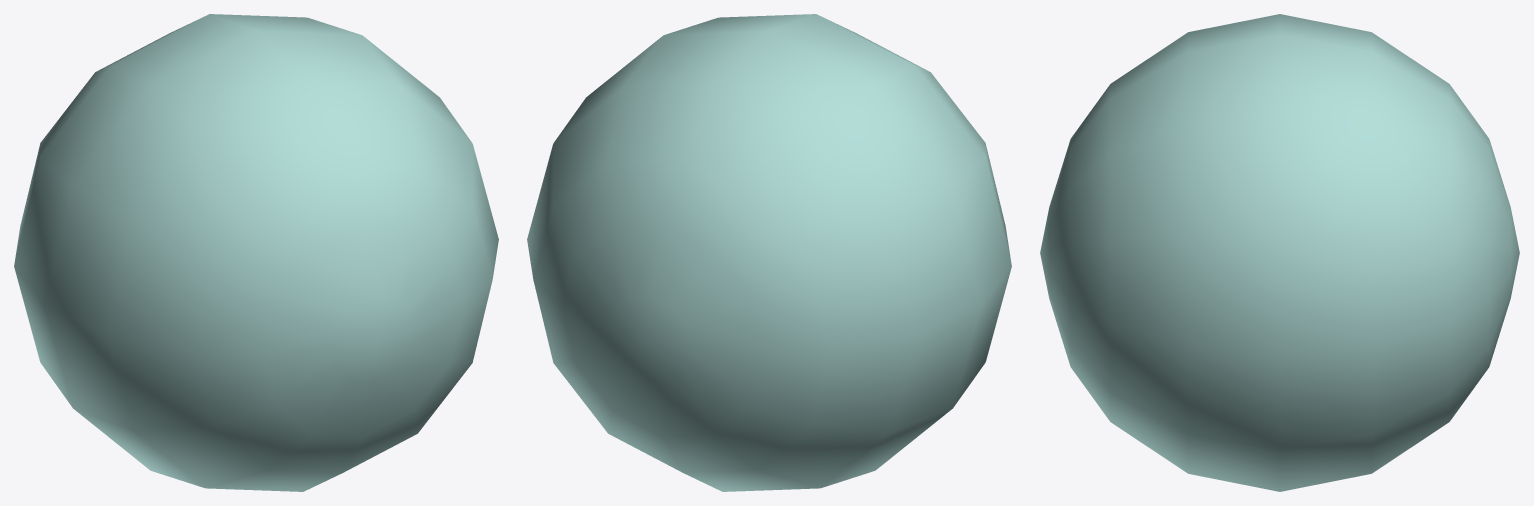
Rendered from FBX_CatsEye.fbx.
The picture shows the model from 3 angles, left to right: view 1: azimuth 30°, elevation 25°; view 2: azimuth 150°, elevation 25°; view 3: azimuth 270°, elevation 25°; orthographic projection.
Visible parts, largest first — view 1: Sphere; view 2: Sphere; view 3: Sphere.
Boxes of the visible parts, box(x1,y1,x2,y2) form: Sphere: box(14, 14, 498, 491); Sphere: box(527, 14, 1011, 491); Sphere: box(1040, 14, 1519, 491).
Bounding box in the file's own units: 0.5 × 0.5 × 0.5.
